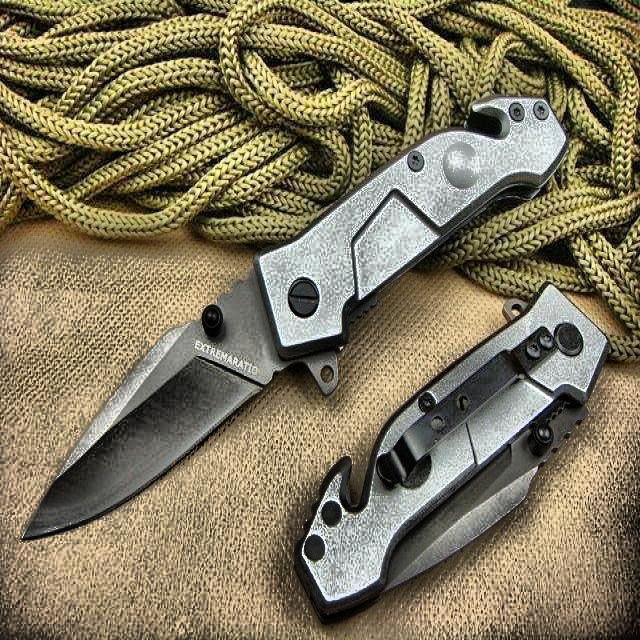knife: (21, 99, 568, 537), (299, 283, 607, 626)
